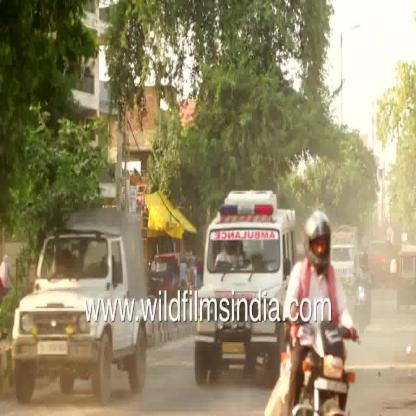priority: (192, 190, 307, 296)
